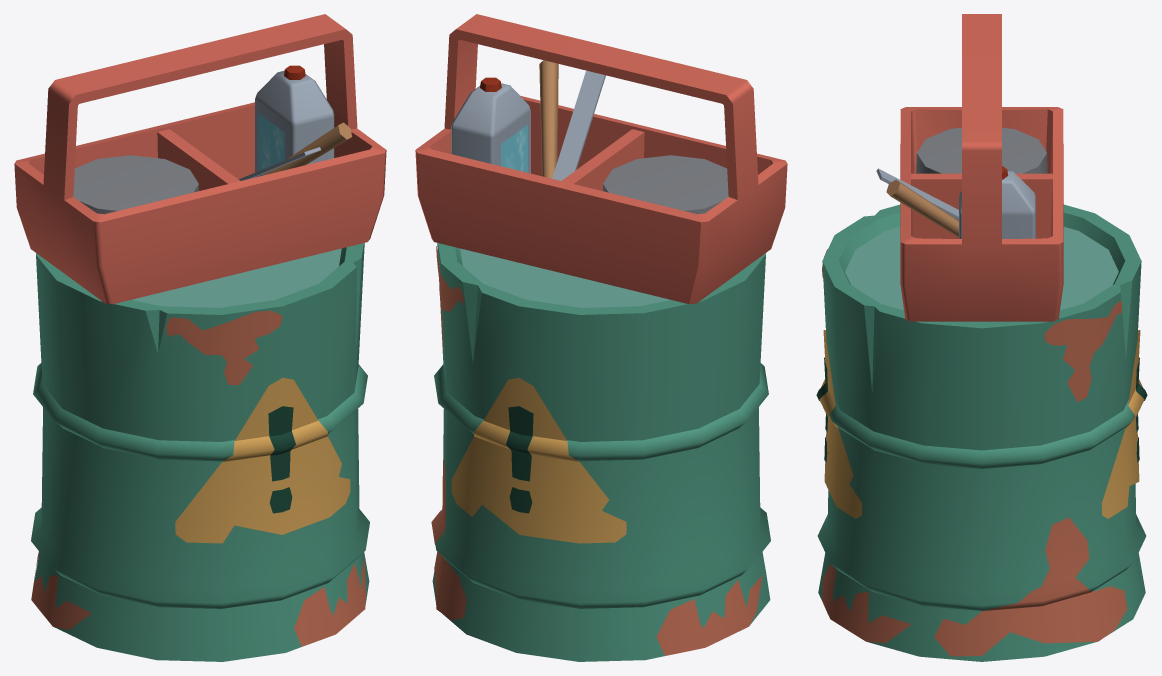
Rendered from BR_ToxicBarrel_03.fbx.
3 renders of one model, left to right at view 1: azimuth 30°, elevation 25°; view 2: azimuth 150°, elevation 25°; view 3: azimuth 270°, elevation 25°, orthographic. The views are drawn at different scales.
Parts seen in each view (by area): view 1: BR_ToxicBarrel_03; view 2: BR_ToxicBarrel_03; view 3: BR_ToxicBarrel_03.
Boxes of the visible parts, box(x1,y1,x2,y2) form: BR_ToxicBarrel_03: box(14, 14, 386, 661); BR_ToxicBarrel_03: box(415, 14, 787, 661); BR_ToxicBarrel_03: box(816, 14, 1147, 661).
Size of the model in its own units: 92.09 by 159 by 92.71.
